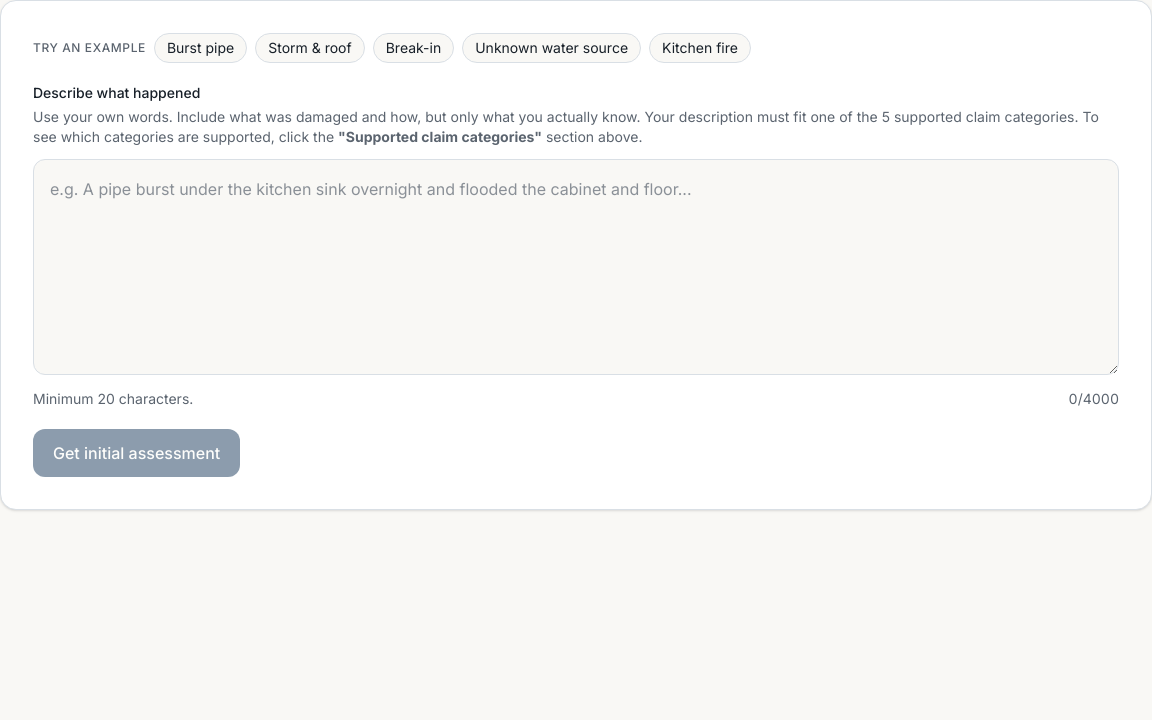
Test: IntakeForm › shows a safe error for a malformed successful response
The image size is (1152, 720).
Type "A pipe burst under the kitchen sink and damaged the cabinet and floor." into the text box labelled "Describe what happened" at [576, 267], box [33,159,1119,375]
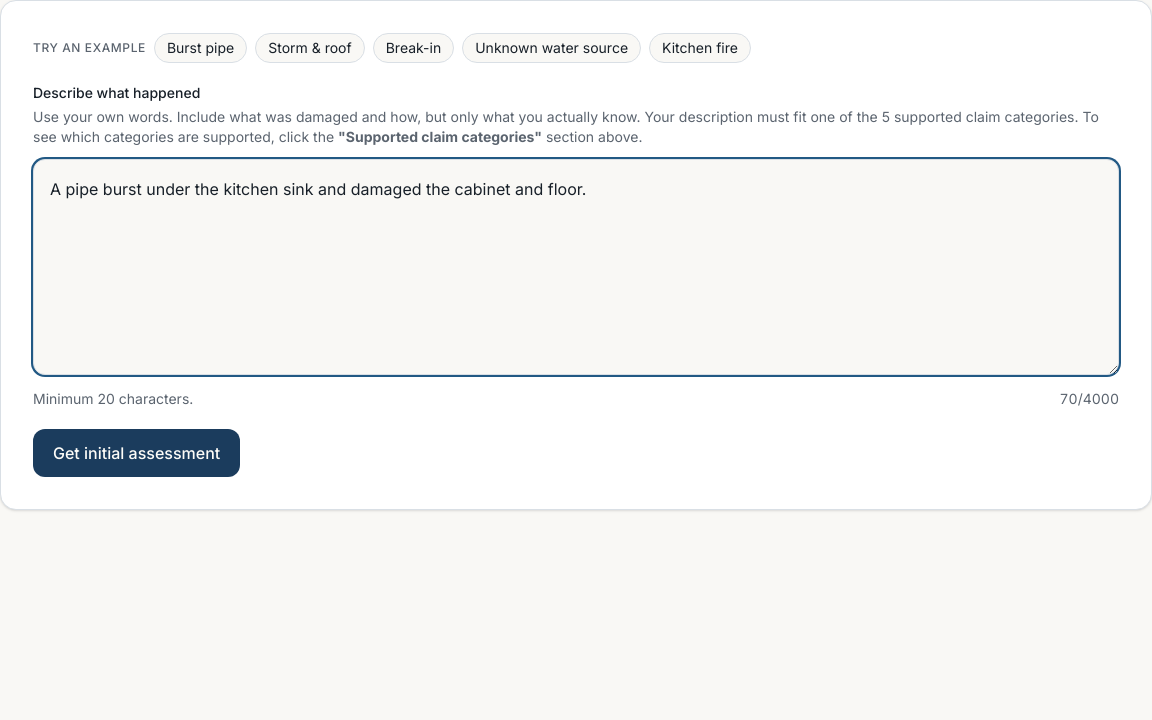
Click the button "Get initial assessment" at [137, 453], box [33,429,240,477]
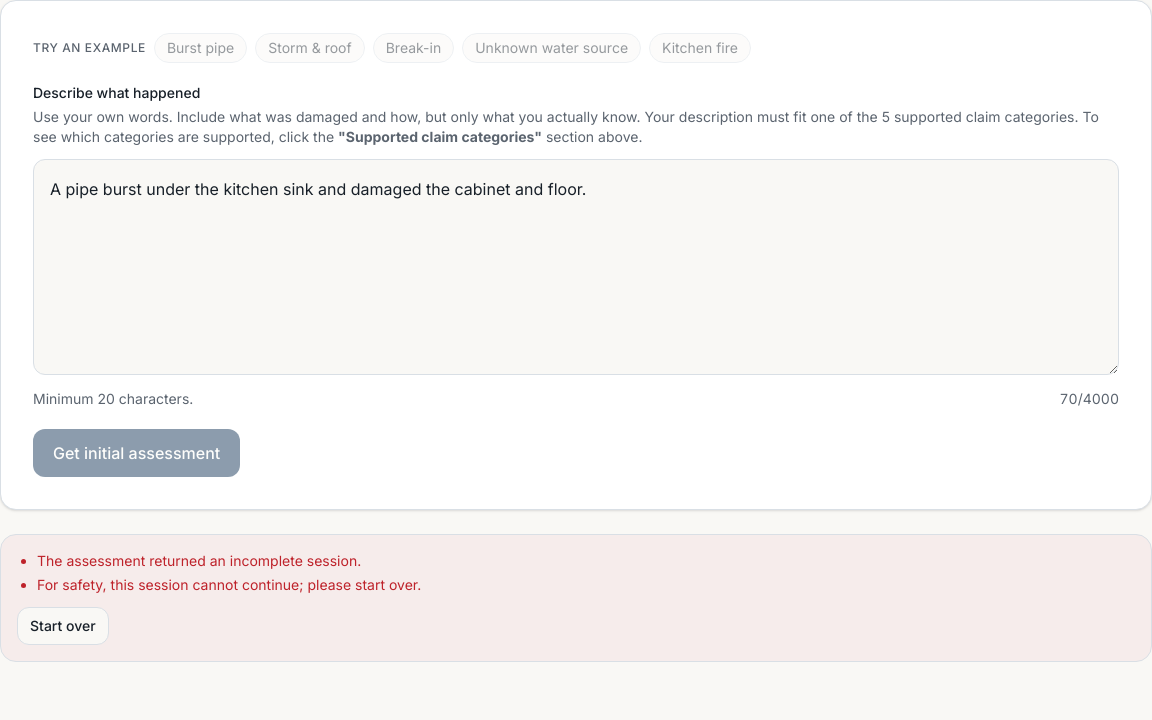
Expected: the message shows "The assessment returned an incomplete session. For safety, this session cannot continue; please start over.", [0,534,1151,662]
